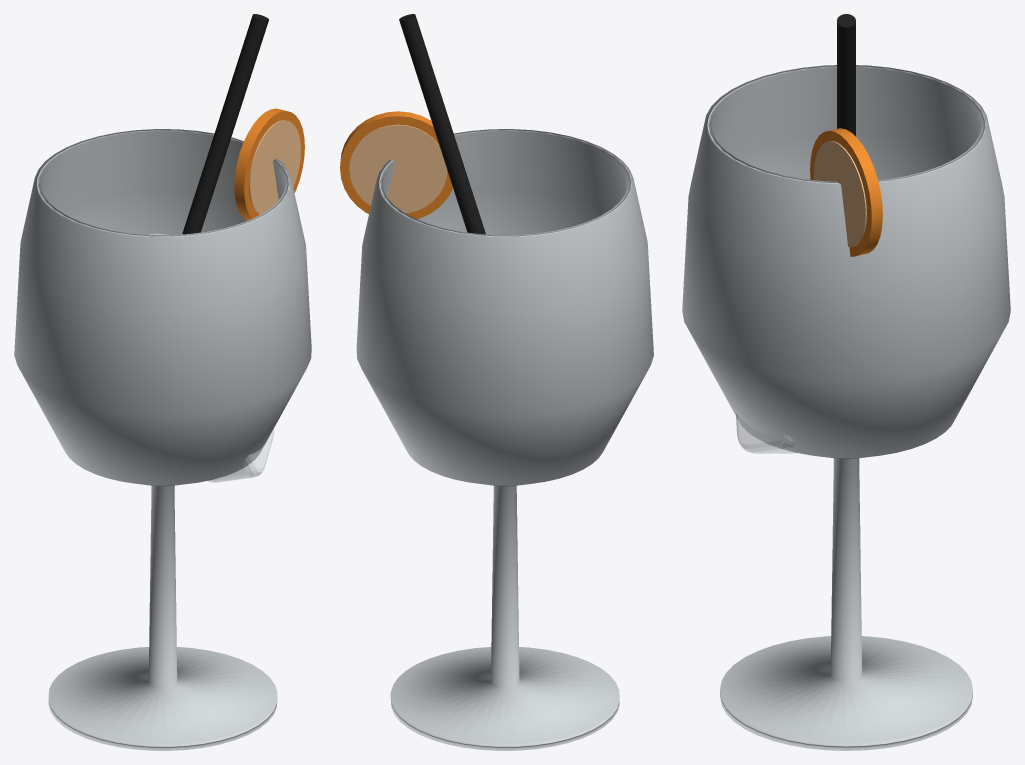
The model's file is bibite-aperol-spritz.glb.
3 views of the same model, side by side, from view 1: azimuth 30°, elevation 25°; view 2: azimuth 150°, elevation 25°; view 3: azimuth 270°, elevation 25° (orthographic). The views are drawn at different scales.
Bounding box in the file's own units: 0.1139 × 0.2558 × 0.104.
